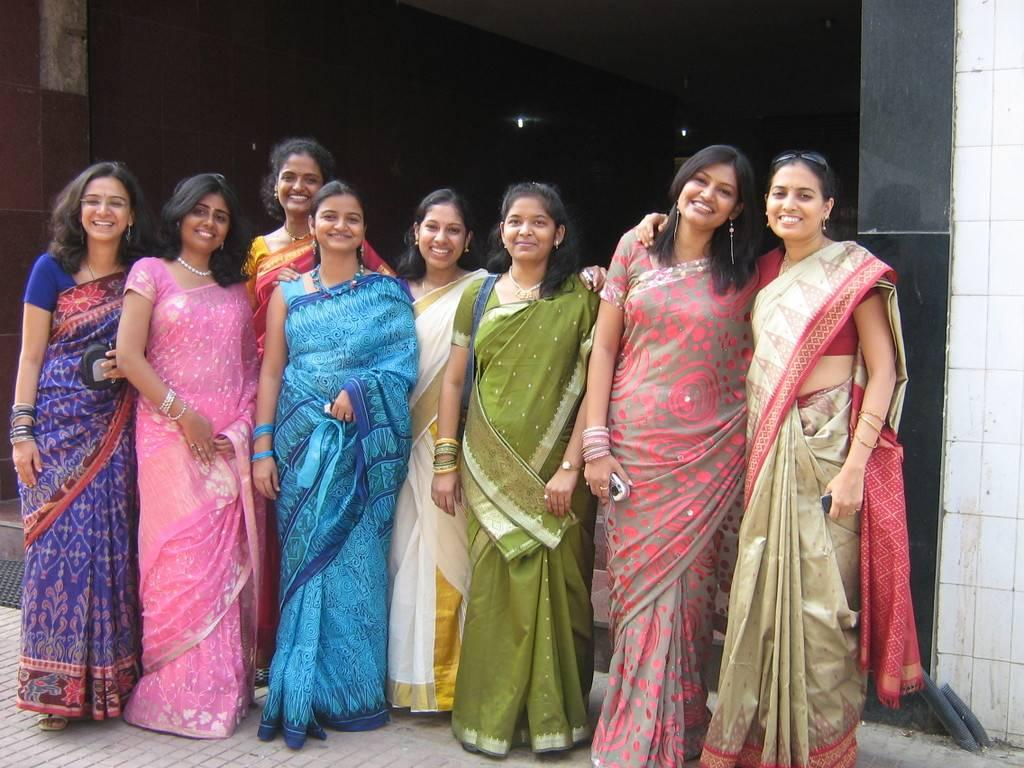face: (679, 165, 737, 227), (768, 175, 823, 239), (181, 194, 231, 251), (503, 206, 554, 260), (81, 186, 129, 240), (419, 211, 466, 266), (316, 201, 364, 251), (278, 157, 323, 210)
